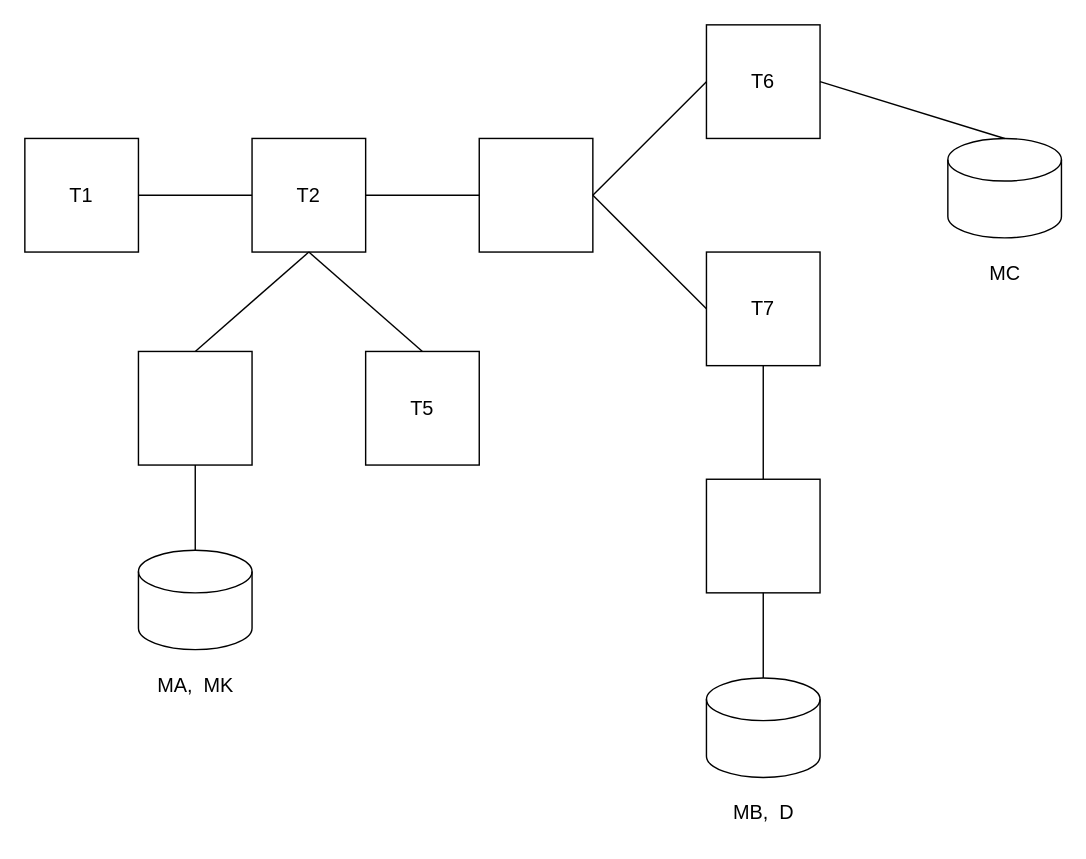
Image size: 1086x859. Some labels were removed from this diagram. The centre of each missing label's shape, as x and y in pixels:
"T3" belongs at point 535,194.
"T4" belongs at point 194,407.
"T8" belongs at point 762,535.
